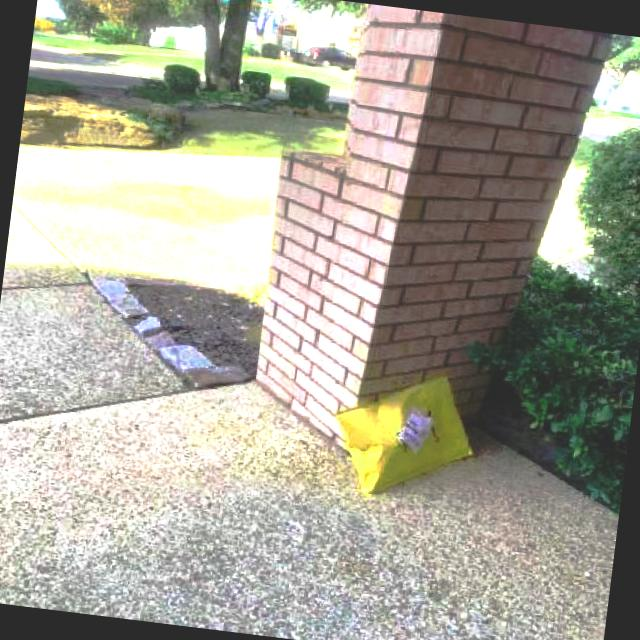Box: (324, 362, 481, 509)
